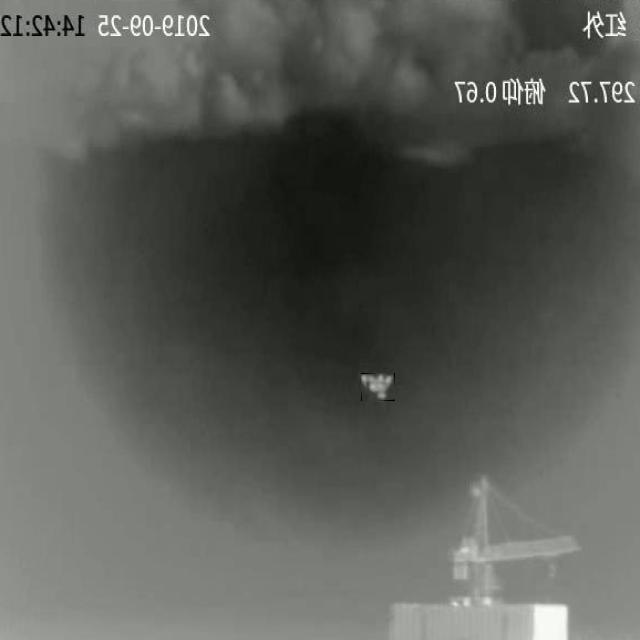drone: (361, 374, 394, 401)
